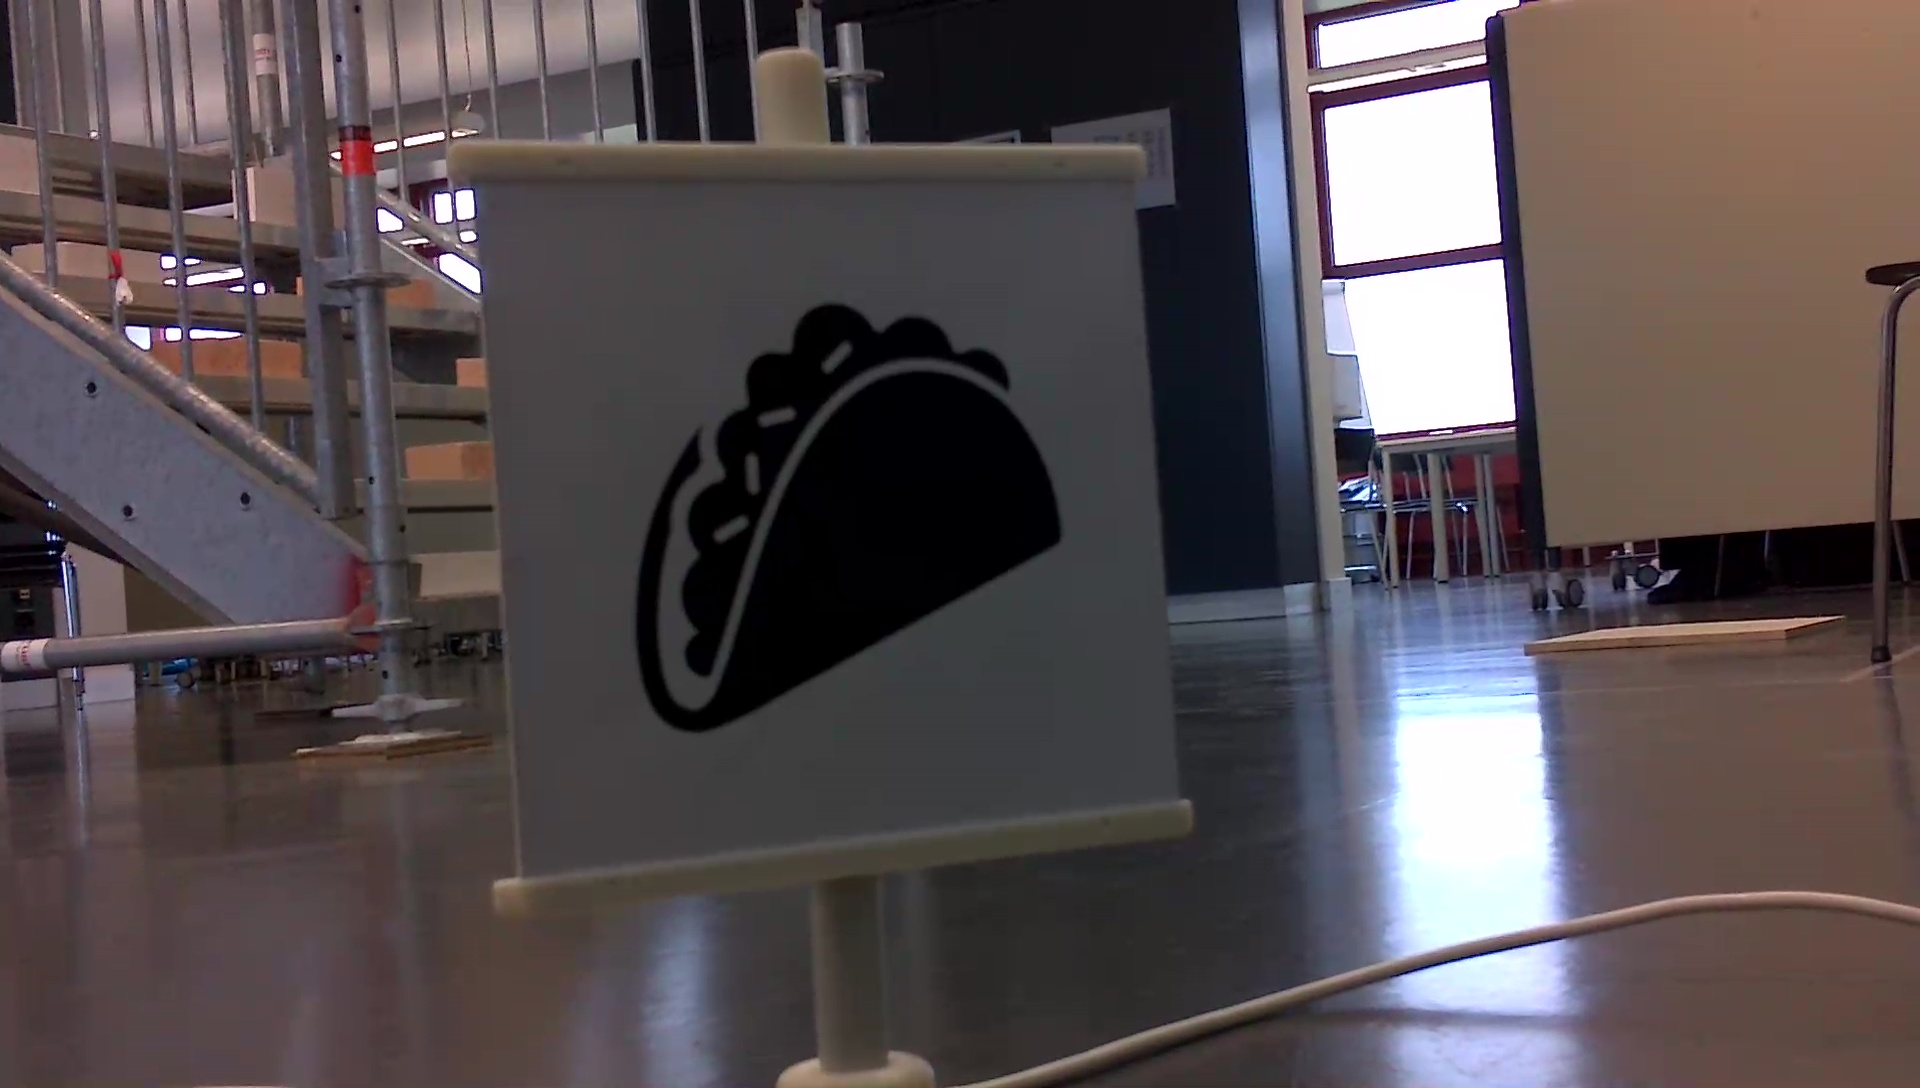brick: (419, 553, 497, 595), (407, 440, 492, 477), (390, 276, 436, 305), (458, 357, 492, 385)
taco: (615, 295, 1072, 742)
